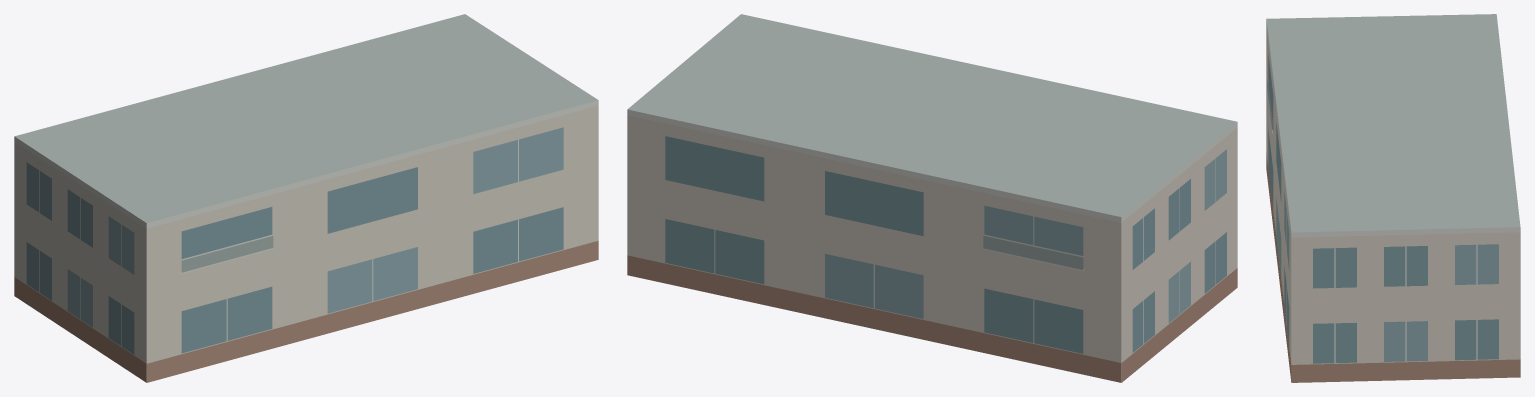
File: survey-upis-32915102.glb
3 renders of one model, left to right at view 1: azimuth 30°, elevation 25°; view 2: azimuth 150°, elevation 25°; view 3: azimuth 270°, elevation 25°, orthographic. The views are drawn at different scales.
Visible parts, largest first — view 1: survey-upis-32915102.tmp; view 2: survey-upis-32915102.tmp; view 3: survey-upis-32915102.tmp.
Part boxes in pixels (box(x1,y1,x2,y2)): survey-upis-32915102.tmp: box(14, 14, 598, 382); survey-upis-32915102.tmp: box(627, 14, 1237, 382); survey-upis-32915102.tmp: box(1266, 14, 1520, 382).
Size of the model in its own units: 22.45 by 7.2 by 11.03.
